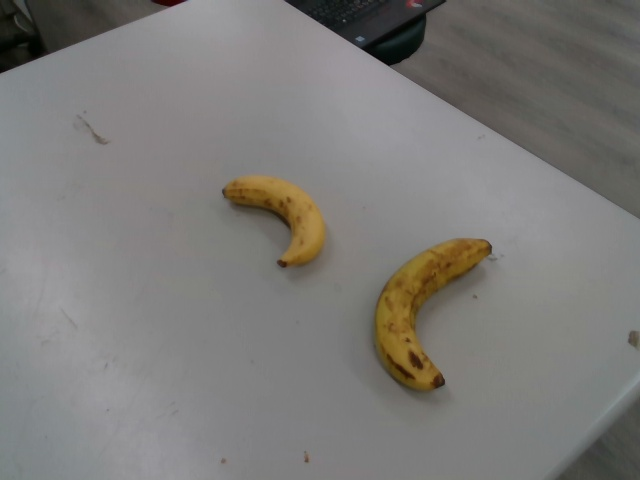banana: (372, 236, 492, 394), (215, 171, 331, 273)
